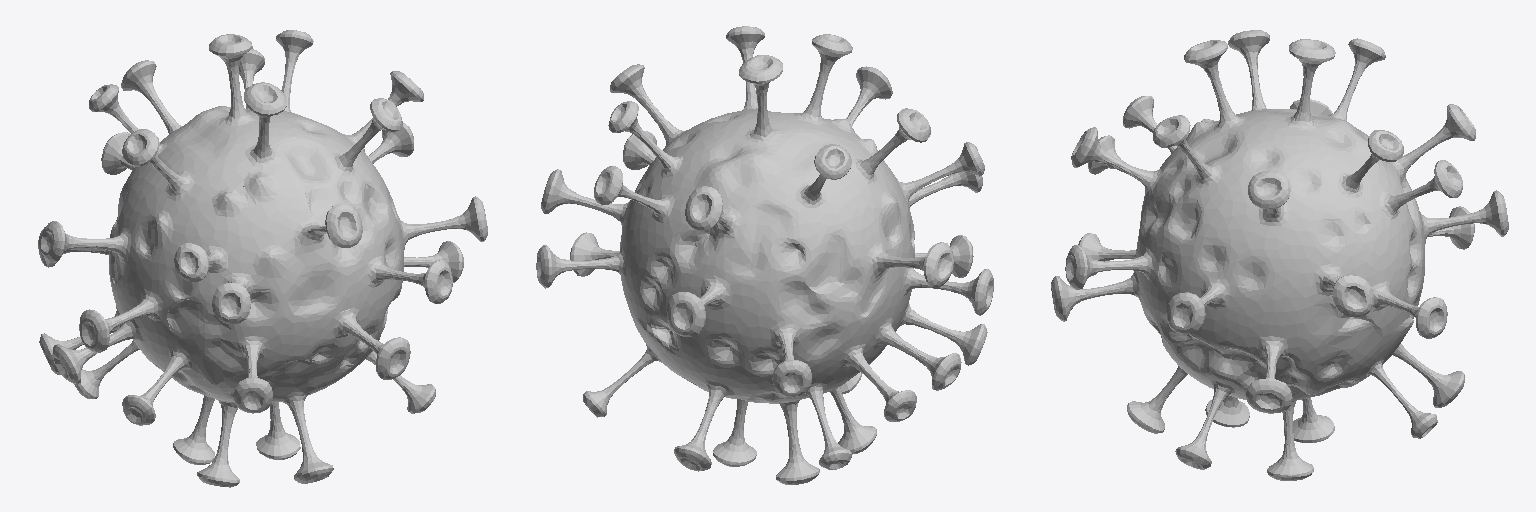
File: singlecell.obj
The picture shows the model from 3 angles: view 1: azimuth 30°, elevation 25°; view 2: azimuth 150°, elevation 25°; view 3: azimuth 270°, elevation 25°; orthographic projection.
Visible parts, largest first — view 1: defaultobject; view 2: defaultobject; view 3: defaultobject.
Part boxes in pixels (left/top/right/bottom): defaultobject: left=38, top=30, right=487, bottom=487; defaultobject: left=536, top=26, right=993, bottom=484; defaultobject: left=1051, top=30, right=1508, bottom=480.
Bounding box in the file's own units: 16.97 × 17.18 × 17.1.